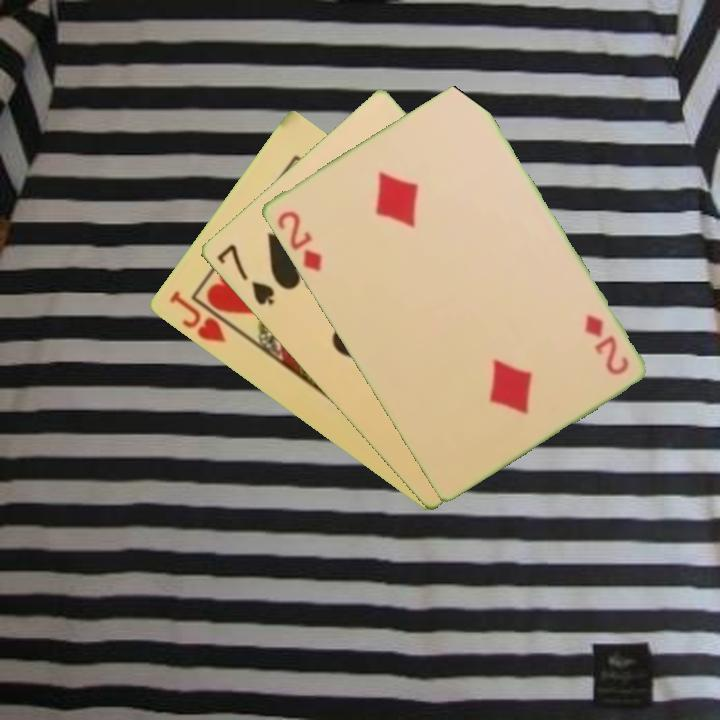2d: (580, 310, 632, 378), (273, 207, 324, 274)
7s: (213, 240, 277, 309)
Jh: (165, 287, 229, 346)
